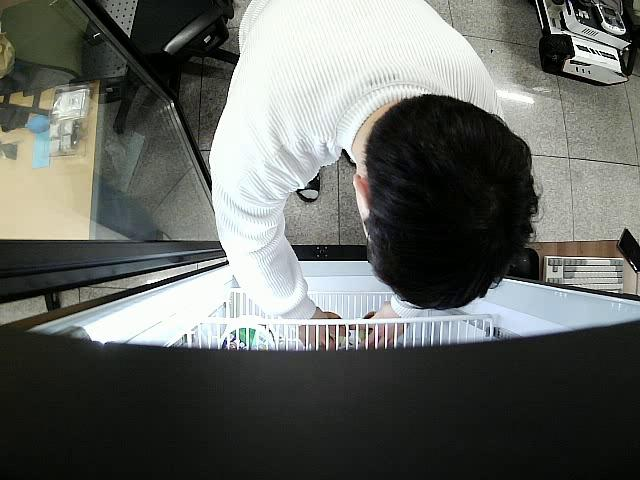00_hand: (296, 306, 349, 351), (361, 309, 405, 349)
